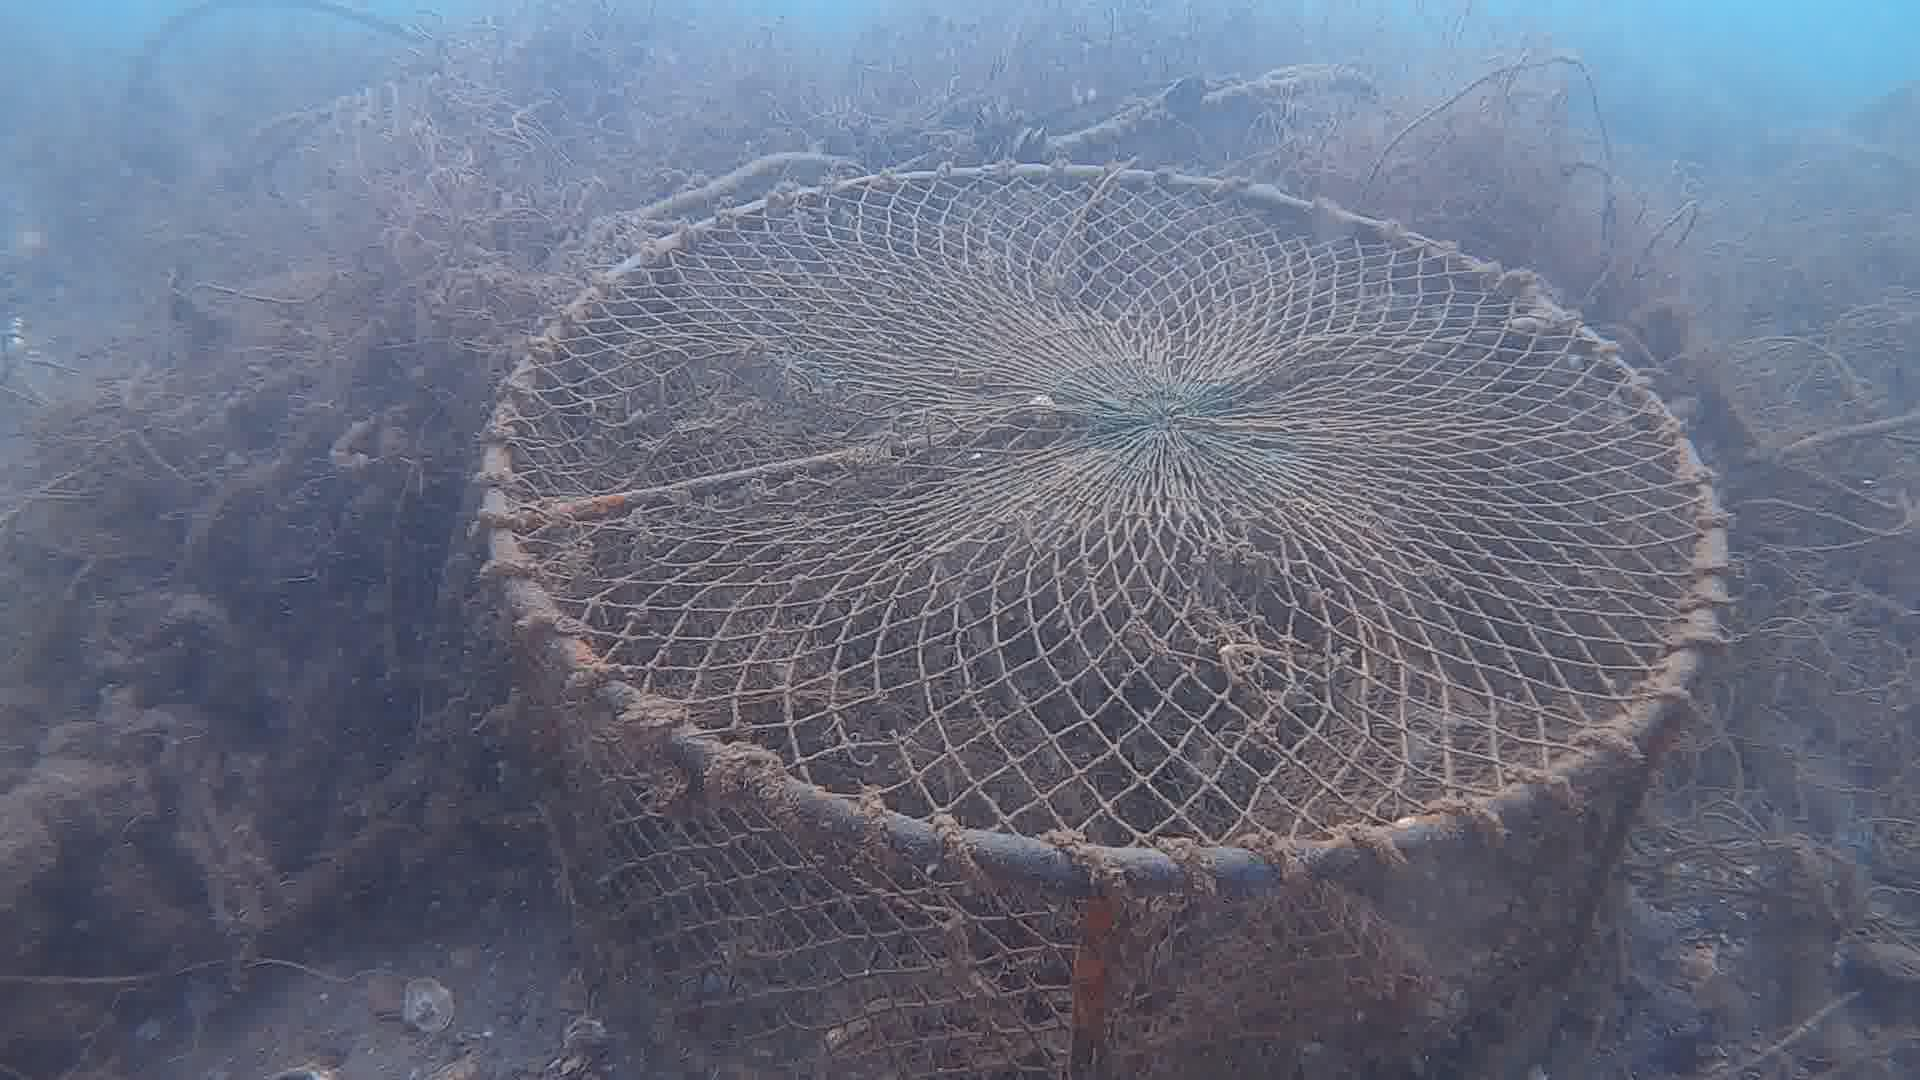circular fish trap: (473, 157, 1743, 1080)
